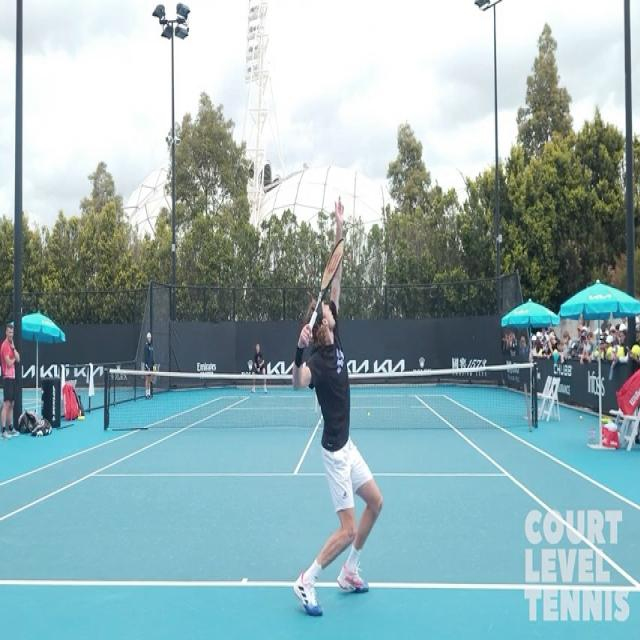serve_hit: (292, 172, 384, 615)
